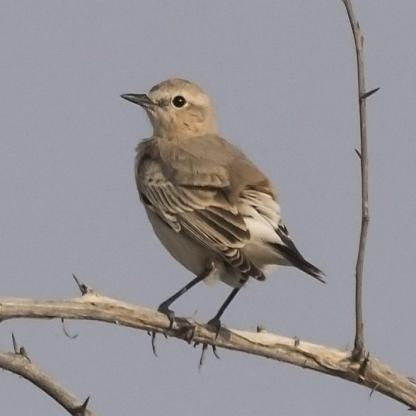Burung: (114, 74, 328, 333)
